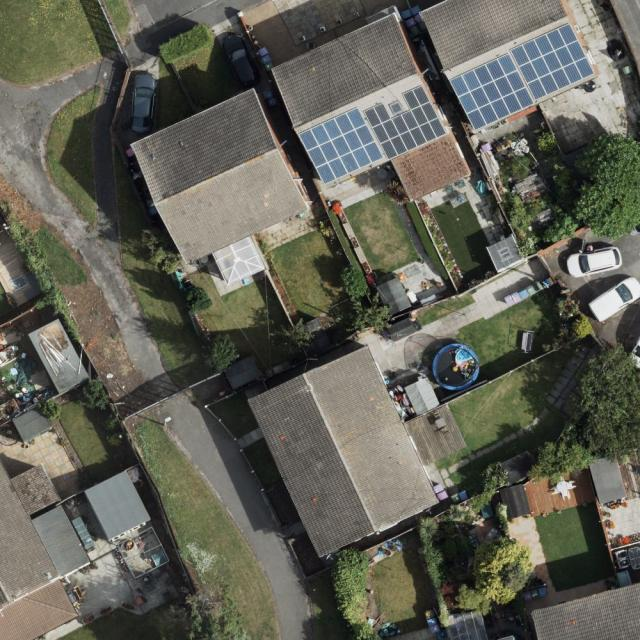roof: (247, 344, 439, 559), (271, 10, 472, 204), (127, 88, 310, 266), (419, 0, 599, 137), (0, 463, 92, 640), (531, 584, 640, 640)
skylight: (389, 100, 402, 115)
solar: (297, 106, 384, 185), (510, 22, 595, 102), (363, 84, 448, 161), (449, 55, 534, 130)
